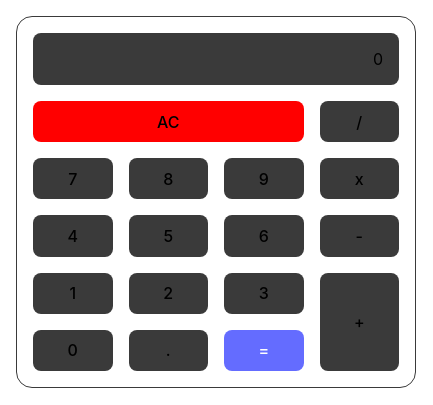
Test case: Calculadora - e2e (espelho de utils.test.ts) › calculate › AC reseta o display para 0
Expected: the text "0" is shown, [373, 49, 383, 69]
Click the button "9".
click(264, 179)  # box [224, 158, 304, 199]
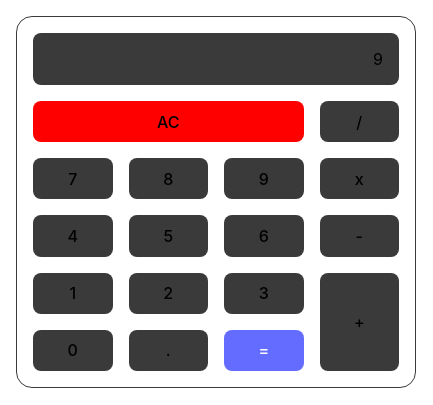
Click the button "9".
click(264, 179)  # box [224, 158, 304, 199]
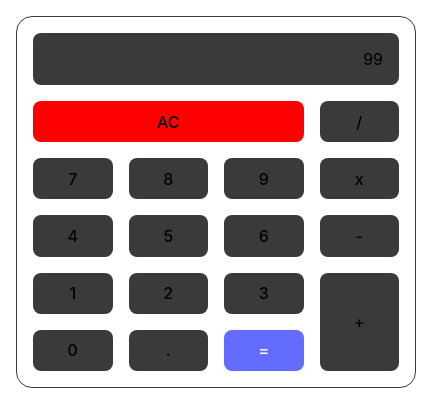
Click the button "AC".
click(169, 122)  # box [33, 101, 304, 142]
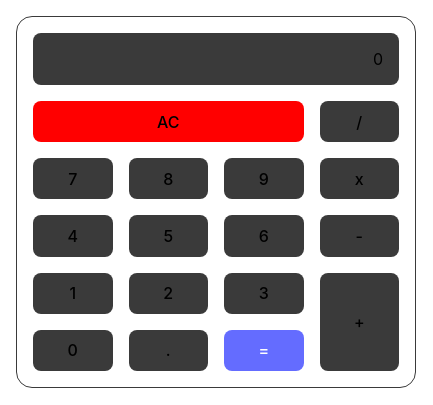
Now the text with test id "display" reads "0", box [373, 49, 383, 69]
